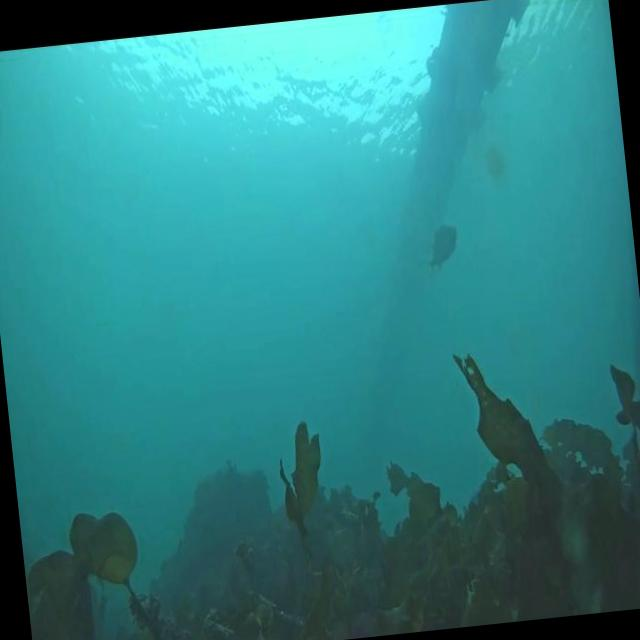fish: (424, 222, 461, 270)
